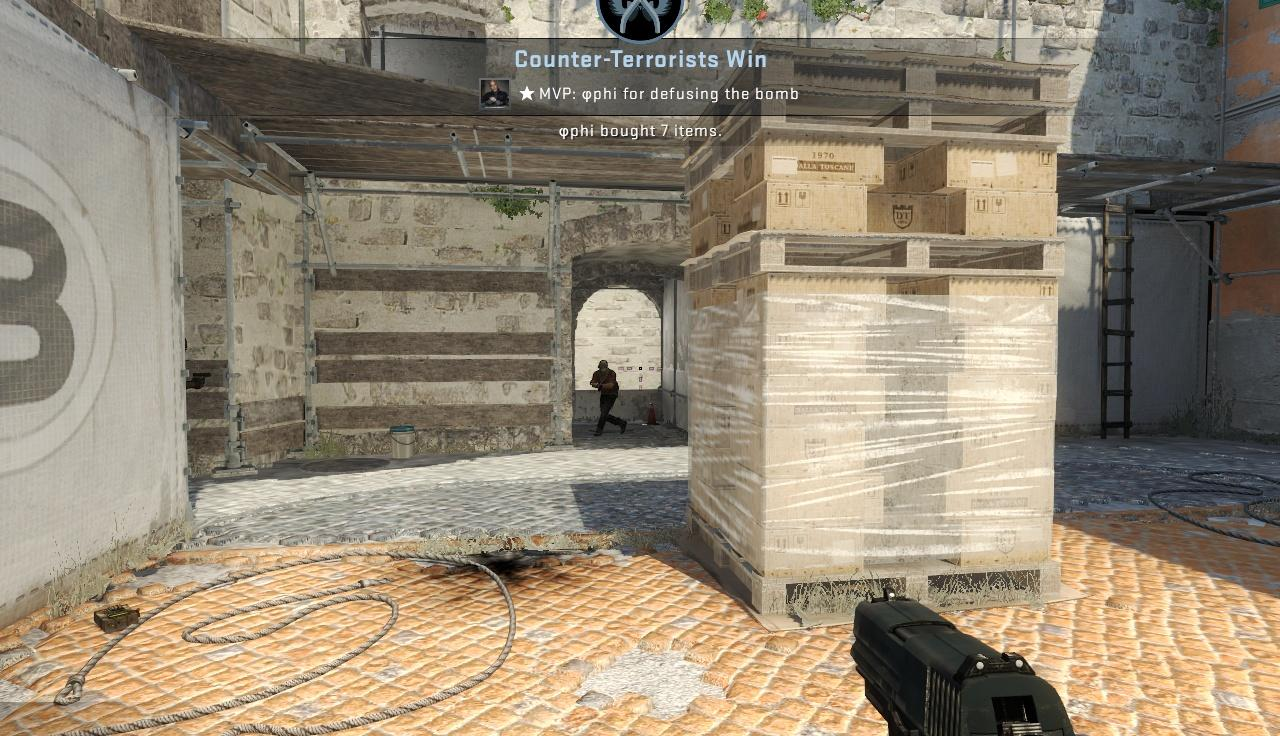pistol: (841, 592, 1078, 736)
tt: (590, 360, 619, 436)
tthead: (596, 361, 608, 374)
